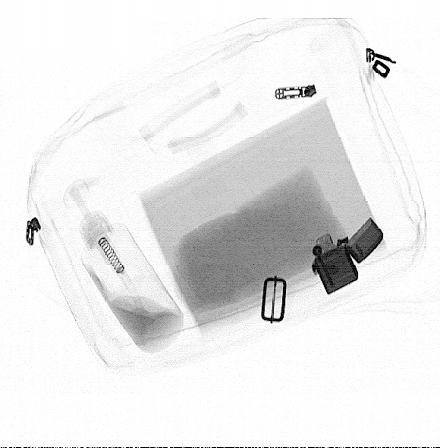Lighter: (311, 217, 383, 296)
